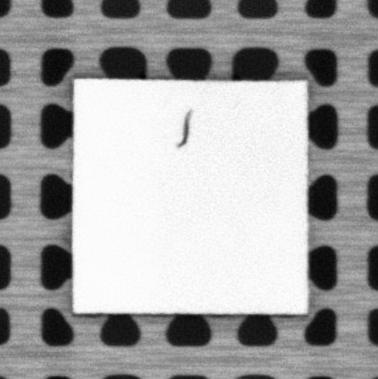DIE_INK: (176, 110, 192, 148)
